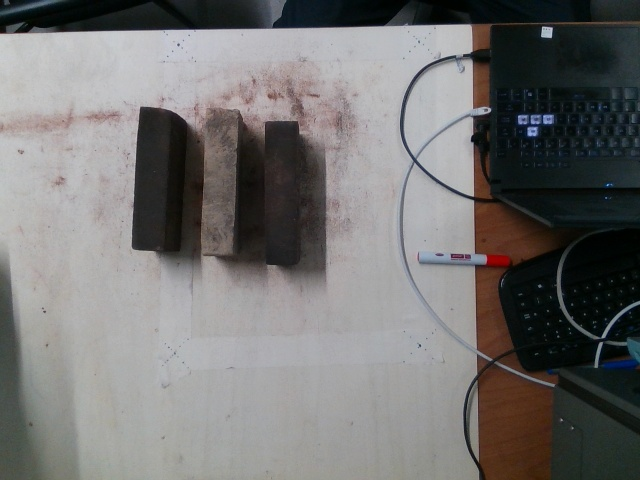brick-side: (200, 111, 239, 254), (128, 109, 167, 252), (263, 119, 296, 260)
